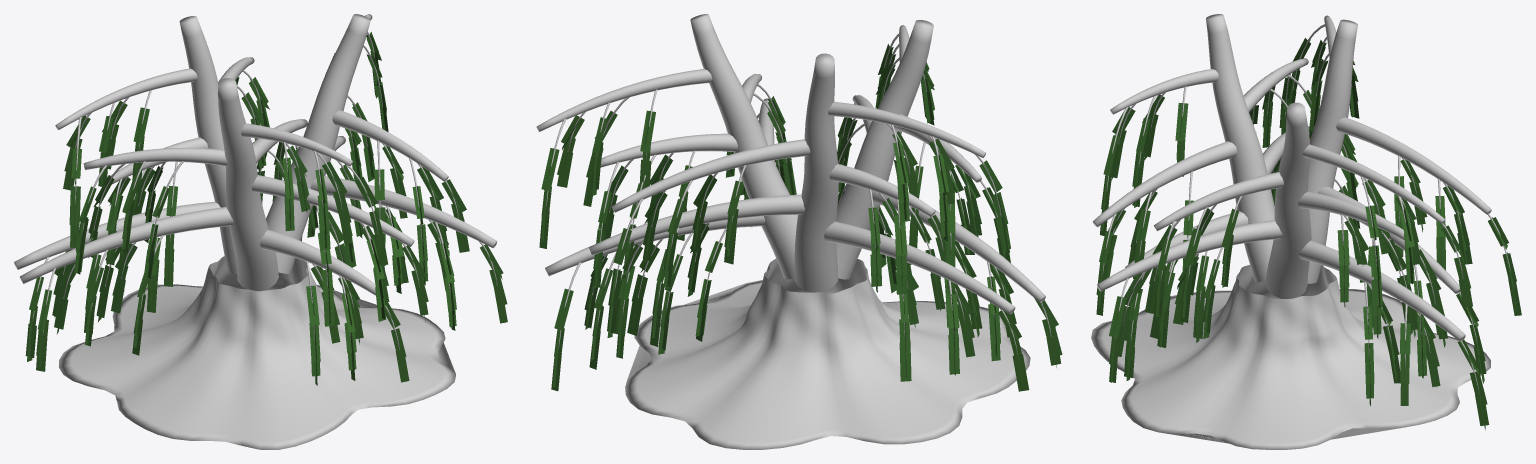
Rendered from montezuma_cypress.obj.
3 views of the same model, side by side, from view 1: azimuth 30°, elevation 25°; view 2: azimuth 150°, elevation 25°; view 3: azimuth 270°, elevation 25° (orthographic). The views are drawn at different scales.
Parts seen in each view (by area): view 1: Montezuma_Trunk_Canopy, Montezuma_Foliage_Canopy; view 2: Montezuma_Trunk_Canopy, Montezuma_Foliage_Canopy; view 3: Montezuma_Trunk_Canopy, Montezuma_Foliage_Canopy.
Boxes of the visible parts, left/top/right/bottom form: Montezuma_Trunk_Canopy: left=14, top=14, right=497, bottom=449; Montezuma_Foliage_Canopy: left=25, top=32, right=507, bottom=385; Montezuma_Trunk_Canopy: left=536, top=14, right=1051, bottom=449; Montezuma_Foliage_Canopy: left=539, top=44, right=1062, bottom=391; Montezuma_Trunk_Canopy: left=1091, top=14, right=1510, bottom=449; Montezuma_Foliage_Canopy: left=1096, top=38, right=1521, bottom=430.
Size of what is drawn, in the model's own units: 17.07 by 12.79 by 15.22.
